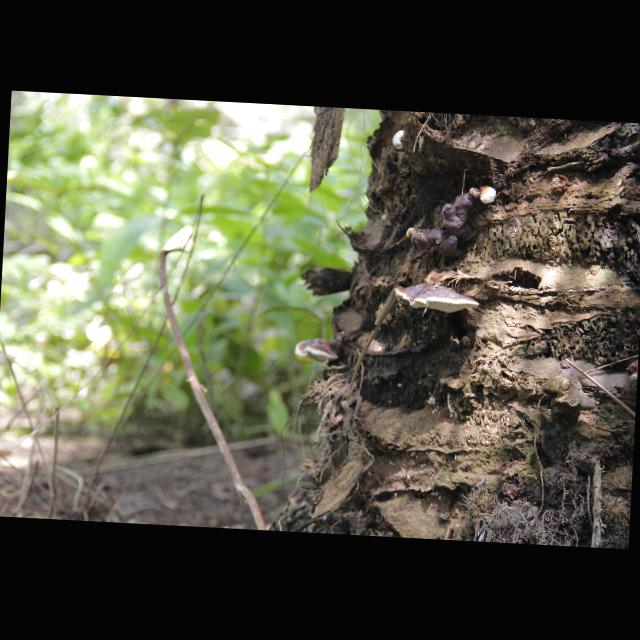ganoderma: (414, 186, 481, 262), (394, 282, 481, 316), (295, 338, 340, 366)
primordium: (480, 186, 498, 205), (393, 131, 406, 152), (406, 228, 415, 241)
